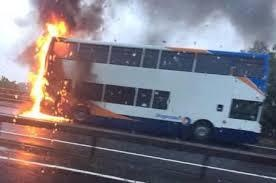fire: (22, 17, 75, 119)
